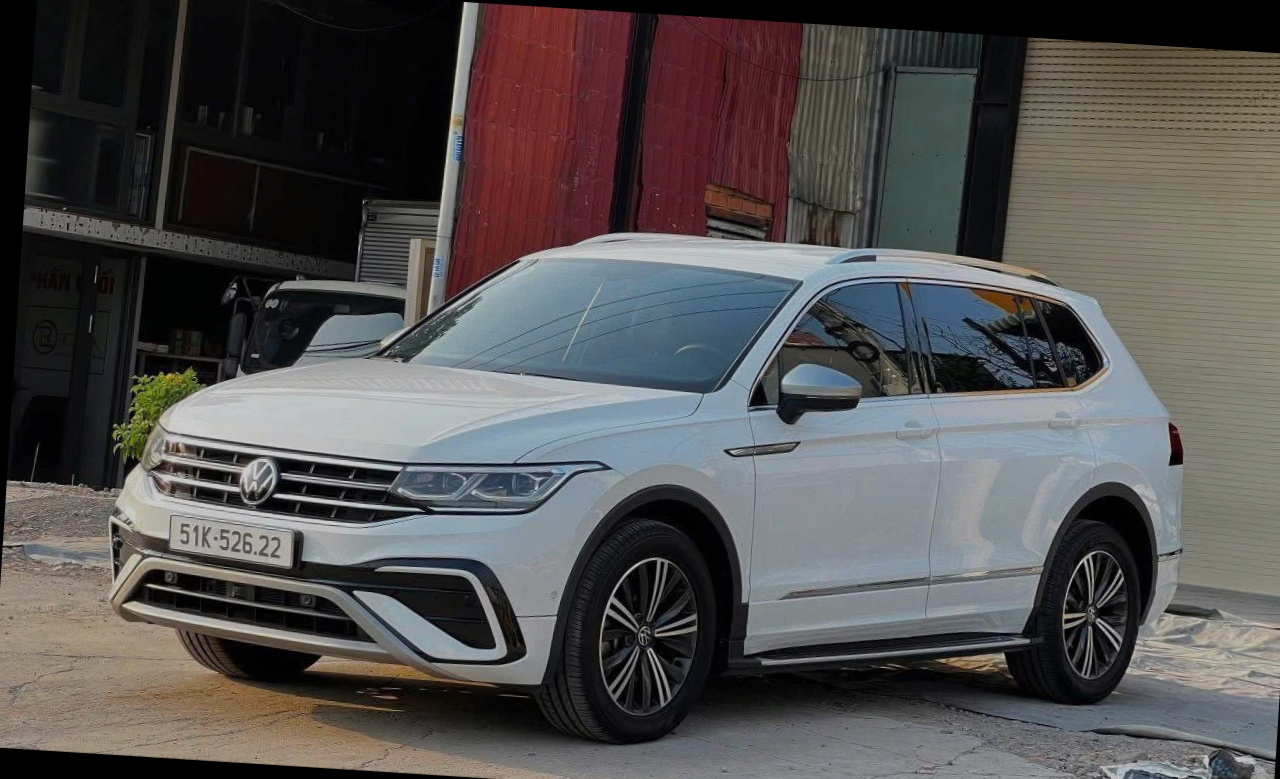Bien-so: (160, 557, 296, 608)
